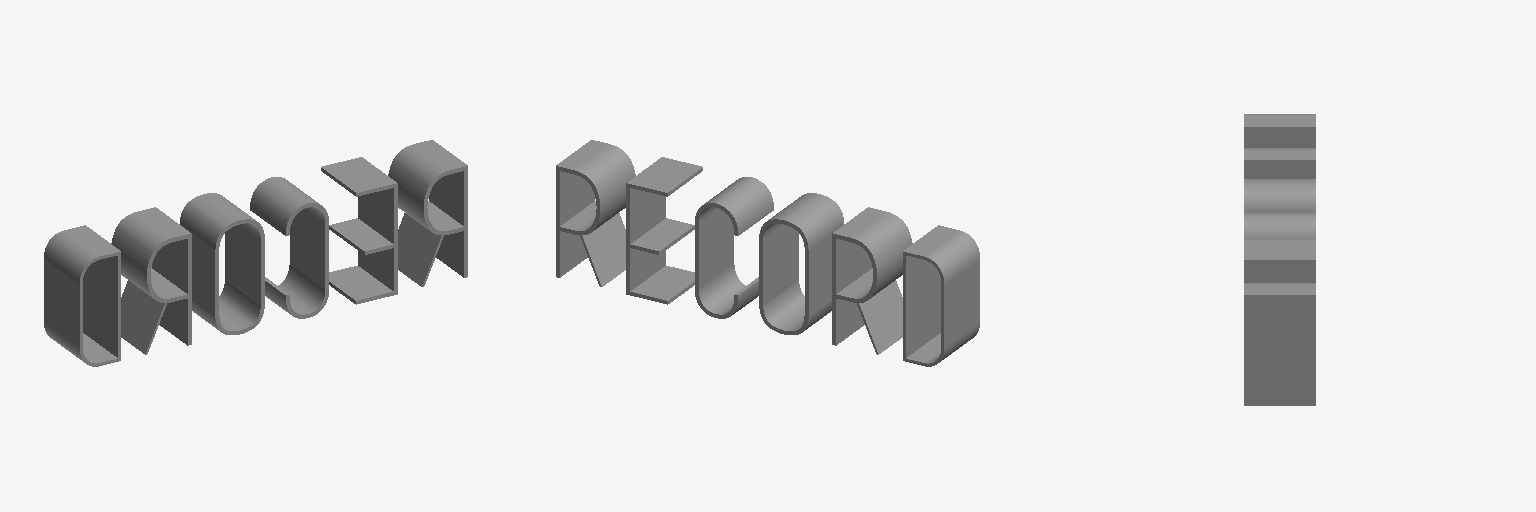
Rendered from Record_Title.obj.
The picture shows the model from 3 angles: view 1: azimuth 30°, elevation 25°; view 2: azimuth 150°, elevation 25°; view 3: azimuth 270°, elevation 25°; orthographic projection.
Parts seen in each view (by area): view 1: Text; view 2: Text; view 3: Text.
Part boxes in pixels (left/top/right/bottom): Text: left=44, top=140, right=467, bottom=366; Text: left=556, top=140, right=979, bottom=366; Text: left=1244, top=114, right=1315, bottom=405.
Bounding box in the file's own units: 2.67 × 0.7508 × 0.426.